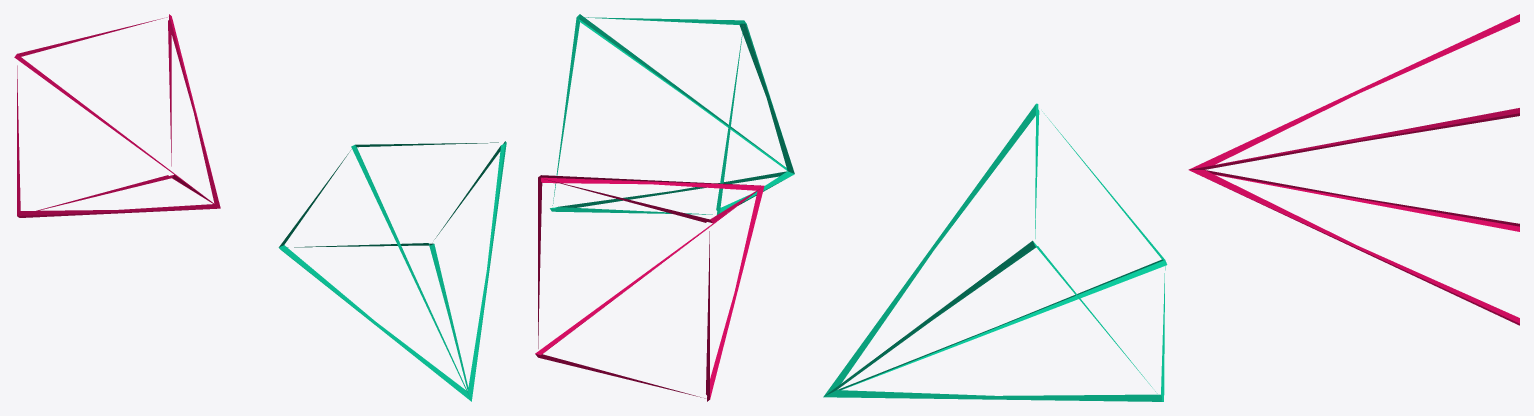
File: wrist_video_10.glb
The picture shows the model from 3 angles, left to right: view 1: azimuth 30°, elevation 25°; view 2: azimuth 150°, elevation 25°; view 3: azimuth 270°, elevation 25°; orthographic projection. The views are drawn at different scales.
Parts seen in each view (by area): view 1: world; view 2: world; view 3: world.
Boxes of the visible parts, box(x1,y1,x2,y2) form: world: box(14, 14, 506, 401); world: box(535, 14, 794, 401); world: box(823, 14, 1519, 401).
Bounding box in the file's own units: 0.2054 × 0.1318 × 0.3072.
